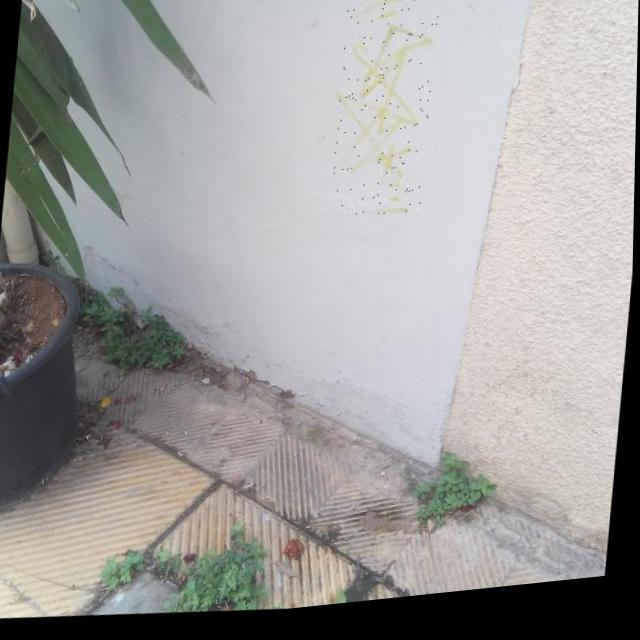-: (330, 0, 440, 230)
